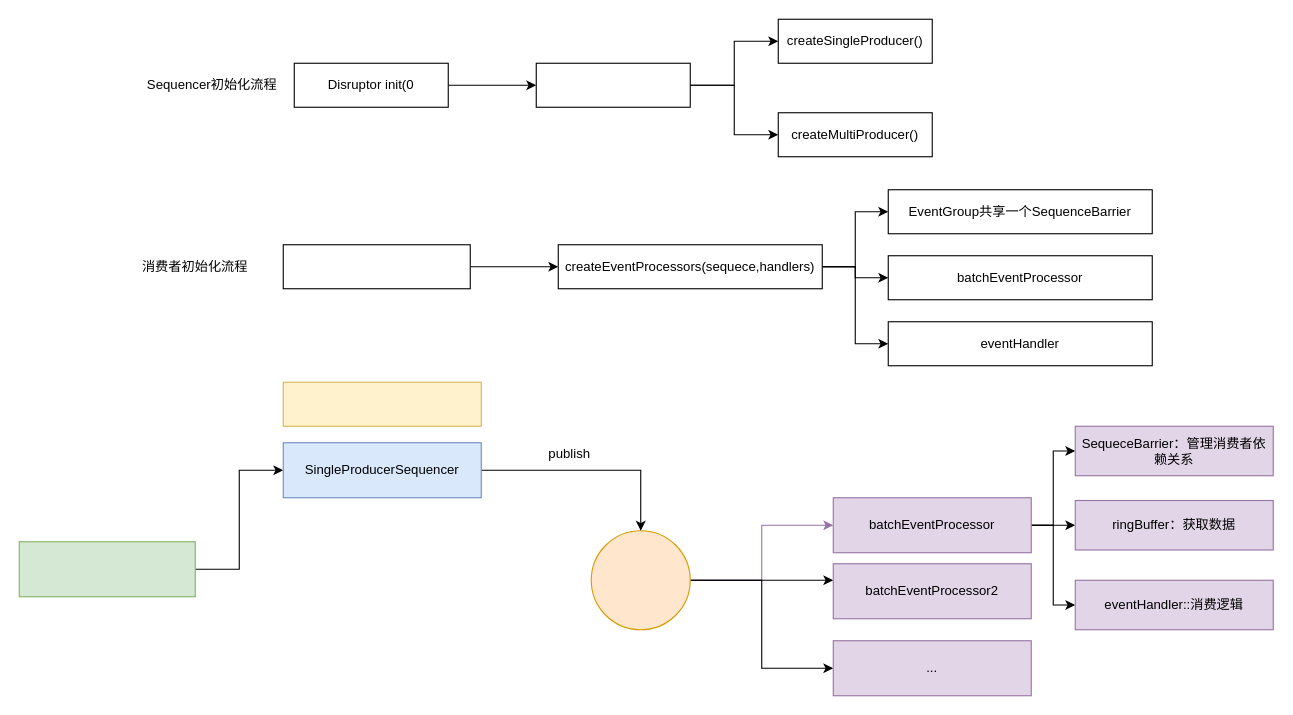
Some shapes in this 1293 by 715 pixel diagram are drawn without their labels. Each missing label, with the centre of its shape:
"Disruptor.handlerEventWith()" belongs at [376,266].
"gatingSequence:获取消费者的门禁值" belongs at [381,403].
"Producer" belongs at [106,569].
"RingBuffer" belongs at [640,580].
"RingBuffer.create(...)" belongs at [612,84].
